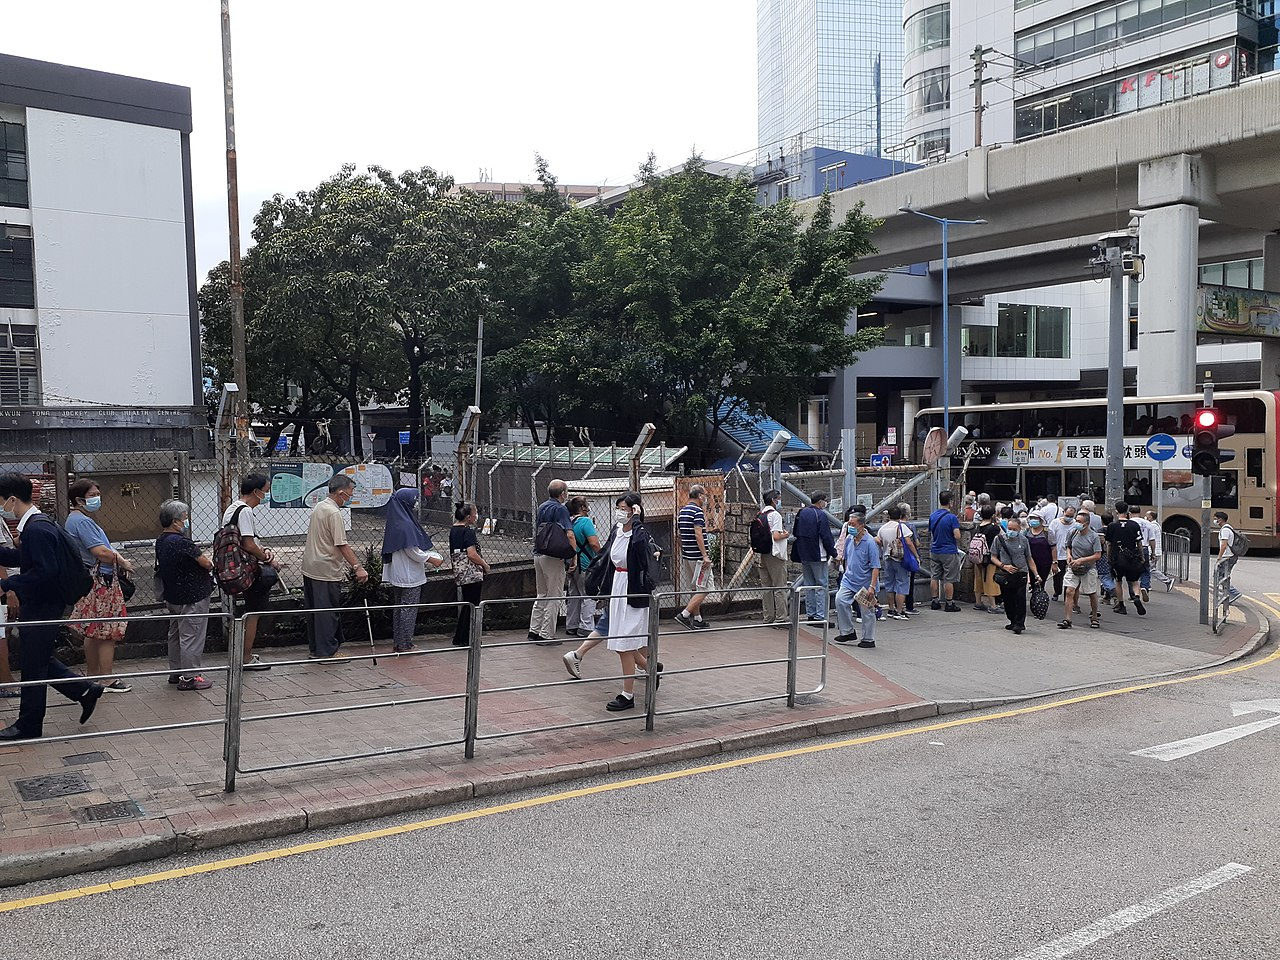Turn Left: (1147, 432, 1178, 462)
